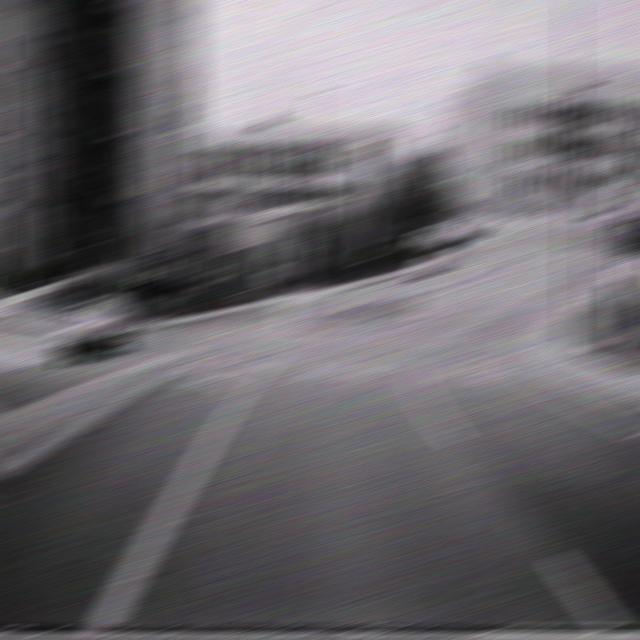stop: (606, 211, 640, 253), (166, 208, 198, 248)
